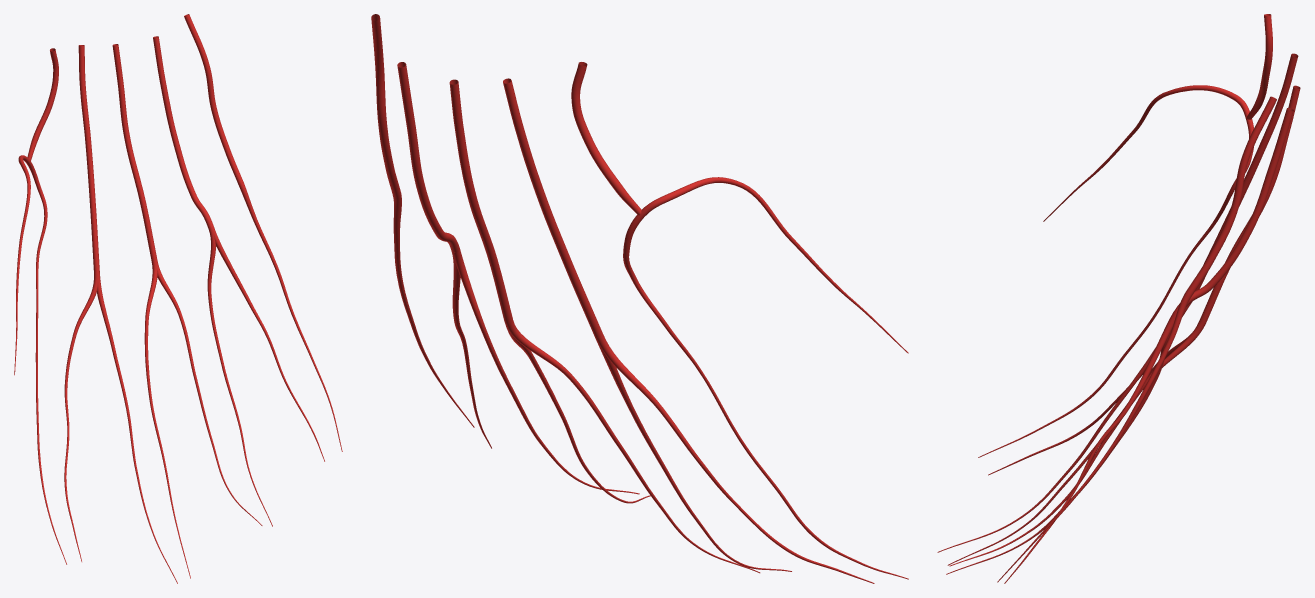
Rendered from circulatorio-dorsal-metacarpal-arteries-r.glb.
The picture shows the model from 3 angles, left to right: view 1: azimuth 30°, elevation 25°; view 2: azimuth 150°, elevation 25°; view 3: azimuth 270°, elevation 25°; orthographic projection. The views are drawn at different scales.
Parts seen in each view (by area): view 1: Dorsal digital arteries of hand.r, Dorsal metacarpal arteries.r; view 2: Dorsal digital arteries of hand.r, Dorsal metacarpal arteries.r; view 3: Dorsal digital arteries of hand.r, Dorsal metacarpal arteries.r.
Part boxes in pixels (box(x1,y1,x2,y2)): Dorsal digital arteries of hand.r: box(14, 155, 342, 583); Dorsal metacarpal arteries.r: box(27, 14, 243, 271); Dorsal digital arteries of hand.r: box(393, 177, 908, 583); Dorsal metacarpal arteries.r: box(371, 14, 641, 337); Dorsal digital arteries of hand.r: box(937, 85, 1253, 583); Dorsal metacarpal arteries.r: box(1173, 14, 1300, 323).
Bounding box in the file's own units: 0.1029 × 0.1373 × 0.0828.
